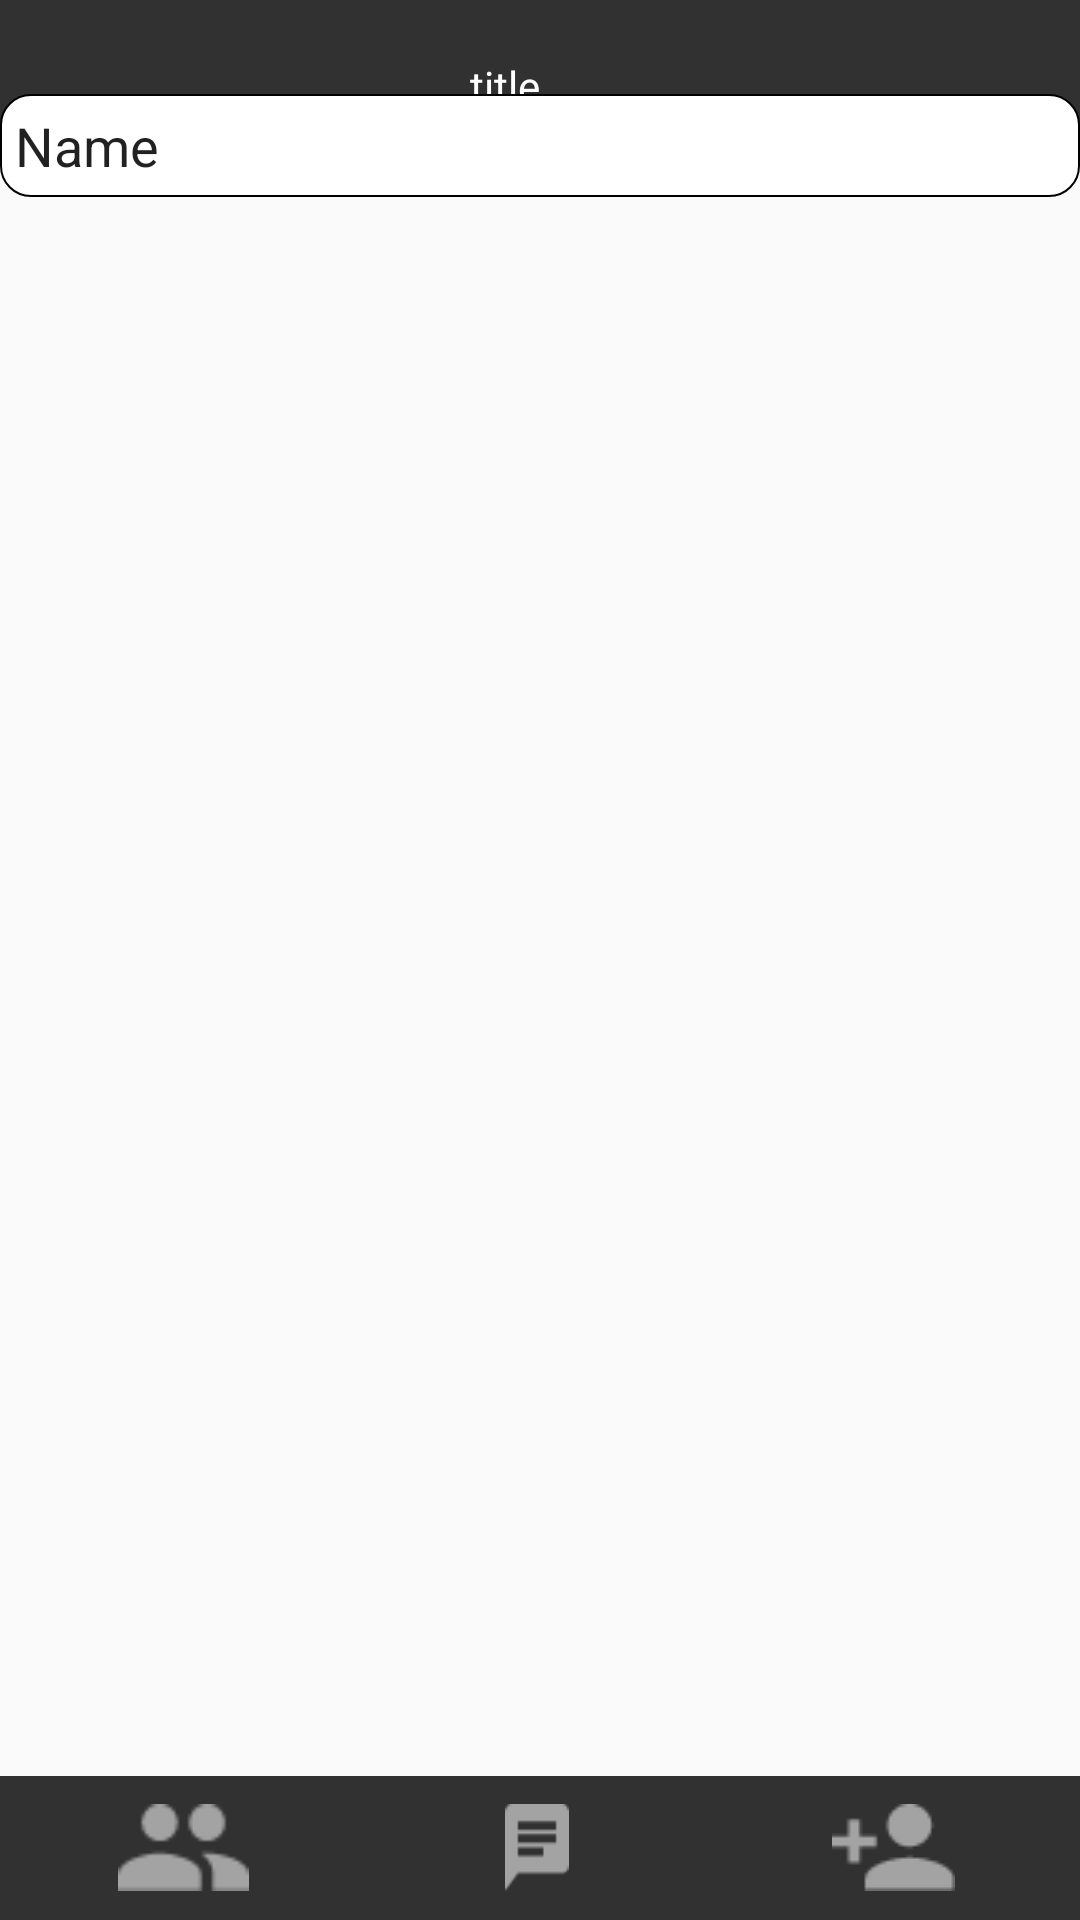

Icon click points for this 1080w x 1920h phone screenshot, format [x,y]:
add friend: [893,1847]
chat: [537,1847]
friend list: [183,1847]
